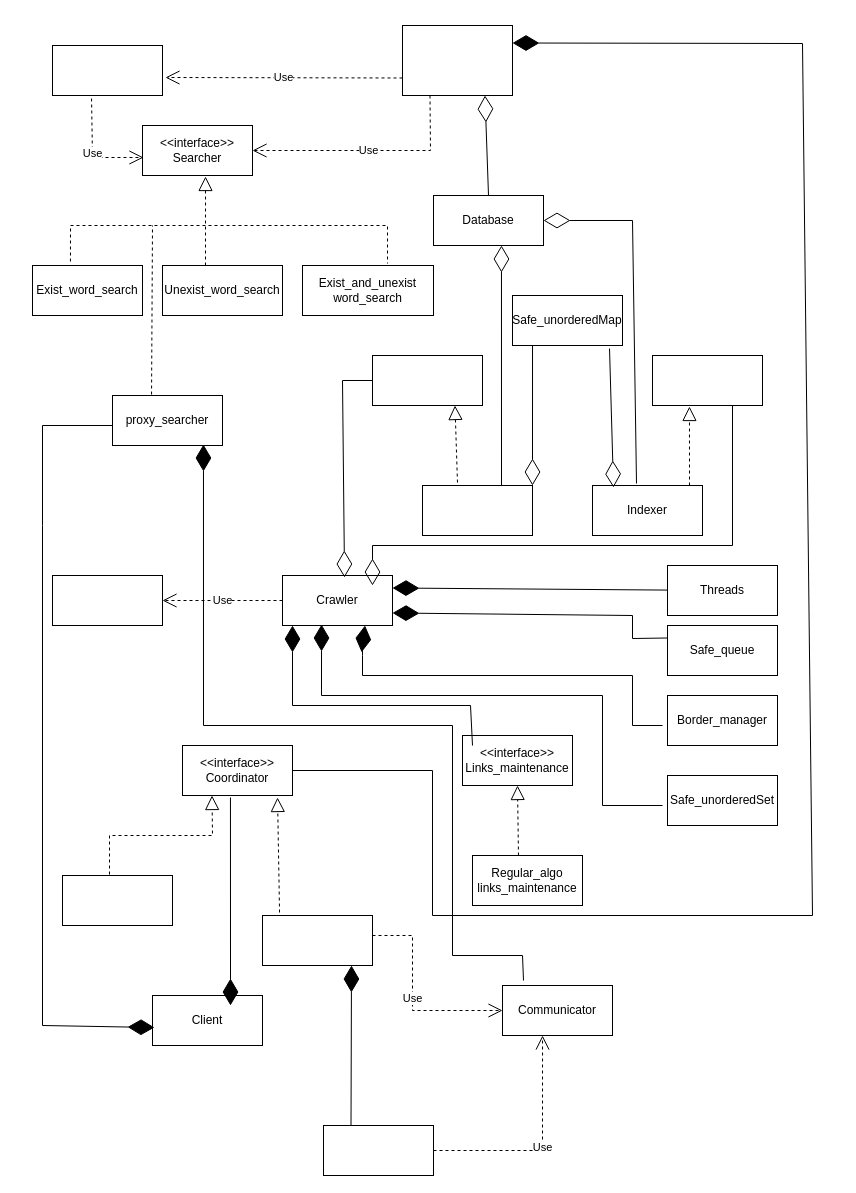
Image size: 856x1193. Some labels were removed from this diagram. Here are the shapes that lost their labels. From the top down, the box of each, then its label:
(52, 44, 162, 96): Factory_searcher
(402, 24, 512, 96): Search_engine
(372, 354, 482, 406): <<interface>> Abstruct_links
(652, 354, 762, 406): <<interface>> Abstruct_words
(422, 484, 532, 536): Links_data
(52, 574, 162, 626): Parser_html
(62, 874, 172, 926): Tui
(262, 914, 372, 966): Tcp_coordinator
(322, 1124, 434, 1176): Ecceptor
